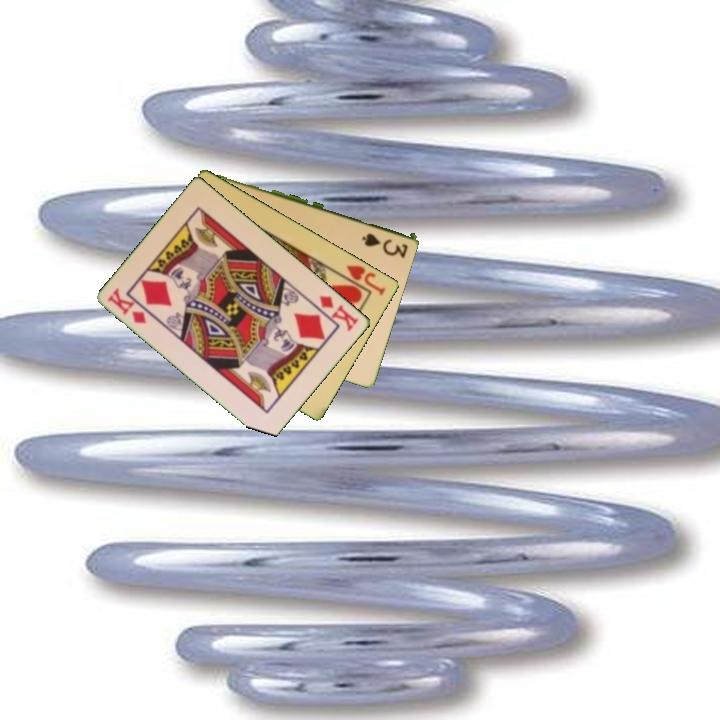3s: (358, 229, 411, 257)
Jh: (342, 261, 389, 298)
Kd: (309, 291, 362, 334), (104, 285, 150, 327)
